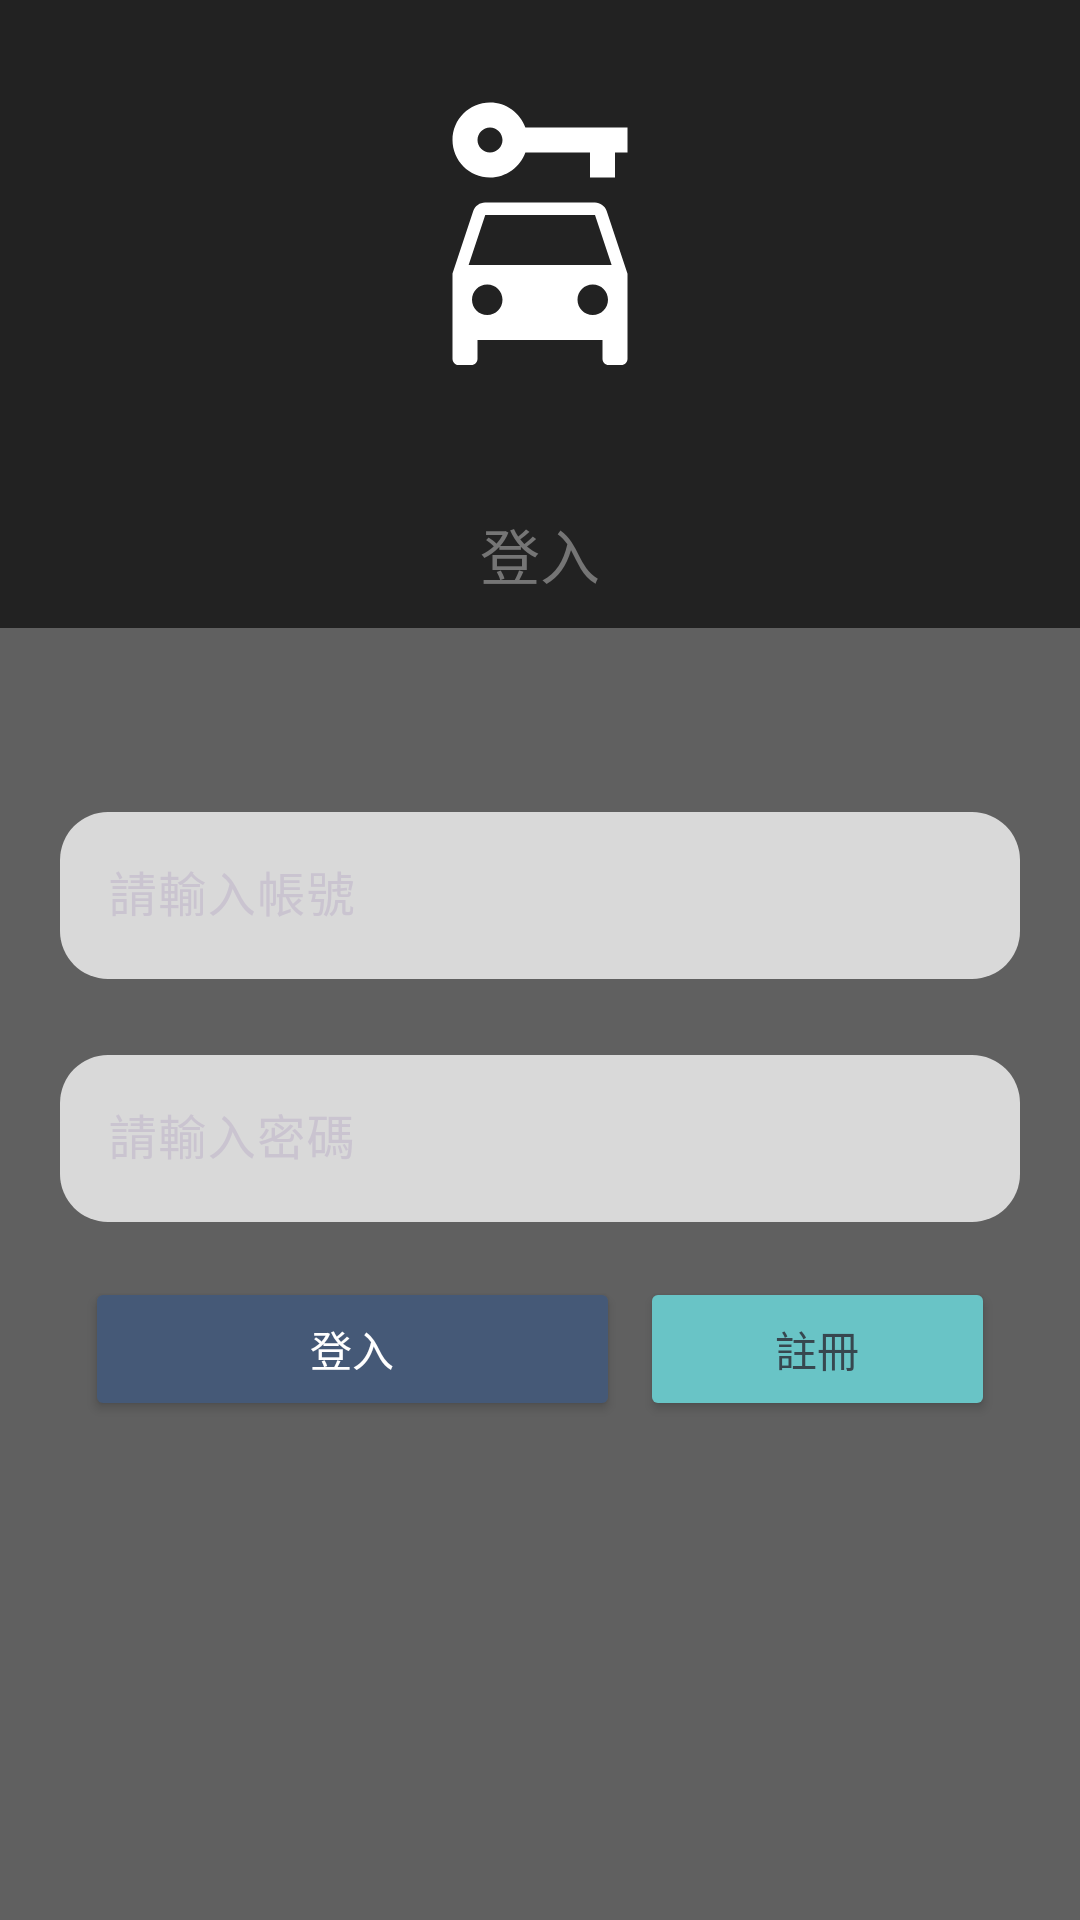

Icon bounding boxes for this 1080 x 1920 phone screenshot, format (x1, y1, x2, y2):
car rental: (452, 102, 628, 365)
